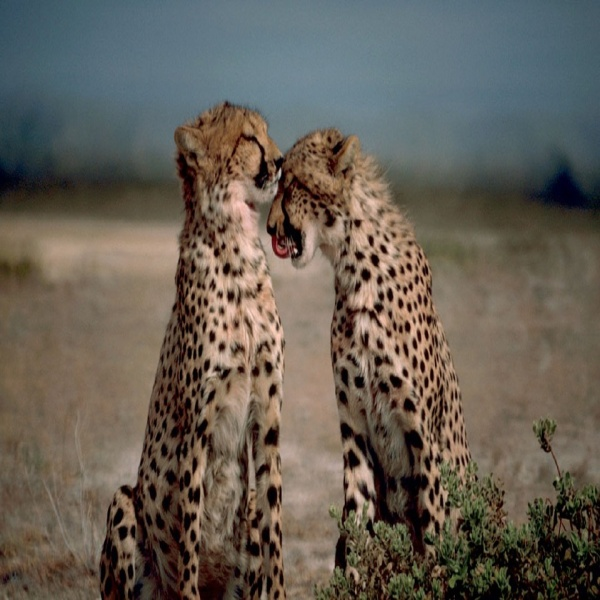Cheetah: (265, 124, 482, 573), (98, 99, 290, 600)
